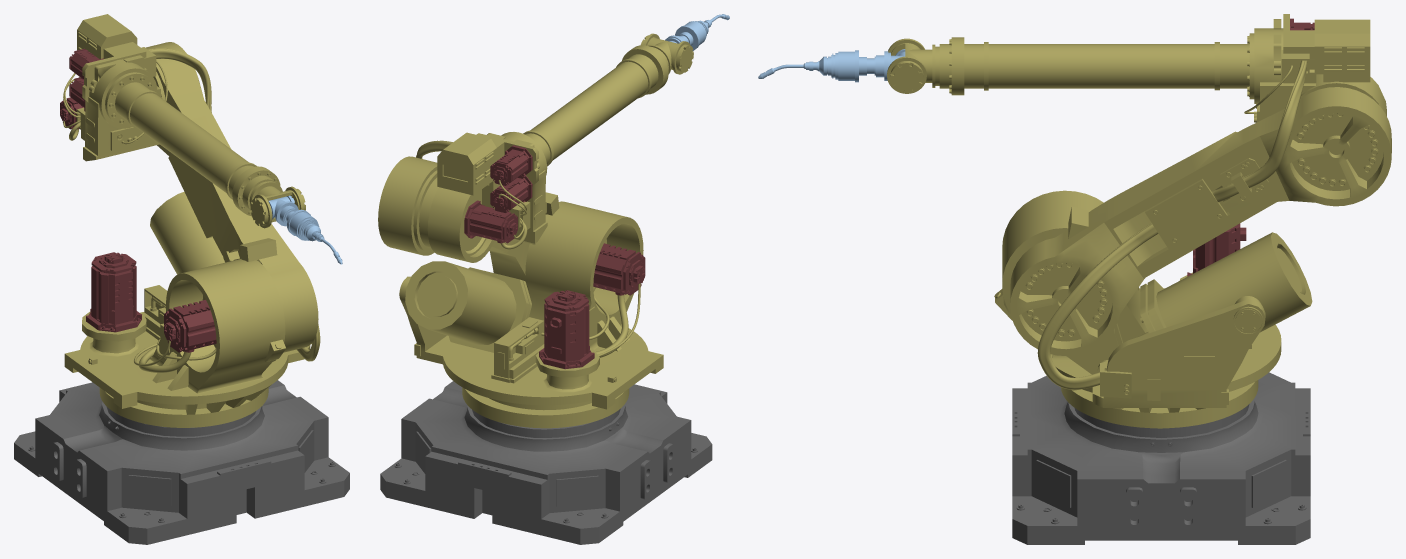
The model's file is armLOW.fbx.
3 renders of one model, left to right at view 1: azimuth 30°, elevation 25°; view 2: azimuth 150°, elevation 25°; view 3: azimuth 270°, elevation 25°, orthographic. The views are drawn at different scales.
Visible parts, largest first — view 1: foundation_low, Base_low, arm2_low, arm_low, engine2_low, BigCyl_low, engine_low, electricbox_low, Tool_low, BigWire_low, prop_low, decal3_low (+3 smaller); view 2: foundation_low, Base_low, arm2_low, BigCyl_low, arm_low, engine2_low, electricbox_low, prop_low, engine_low, engine5_low, decal3_low, engine3_low (+3 smaller); view 3: foundation_low, arm_low, arm2_low, Base_low, BigCyl_low, BigWire_low, decal4_low, electricbox_low, Tool_low, engine2_low, screw4_low, decal3_low (+3 smaller).
Part boxes in pixels (x1=…): foundation_low: x1=14, y1=380, x2=349, y2=544; Base_low: x1=64, y1=259, x2=310, y2=427; arm2_low: x1=76, y1=42, x2=305, y2=228; arm_low: x1=146, y1=42, x2=318, y2=352; engine2_low: x1=86, y1=252, x2=141, y2=332; BigCyl_low: x1=150, y1=192, x2=224, y2=274; engine_low: x1=164, y1=299, x2=216, y2=352; electricbox_low: x1=77, y1=14, x2=137, y2=58; Tool_low: x1=275, y1=201, x2=342, y2=264; BigWire_low: x1=148, y1=48, x2=320, y2=361; prop_low: x1=141, y1=285, x2=167, y2=340; decal3_low: x1=88, y1=313, x2=188, y2=390; foundation_low: x1=380, y1=381, x2=712, y2=544; Base_low: x1=400, y1=201, x2=663, y2=428; arm2_low: x1=413, y1=33, x2=693, y2=262; BigCyl_low: x1=405, y1=261, x2=531, y2=352; arm_low: x1=378, y1=156, x2=559, y2=281; engine2_low: x1=539, y1=290, x2=594, y2=369; electricbox_low: x1=437, y1=132, x2=496, y2=195; prop_low: x1=491, y1=317, x2=544, y2=383; engine_low: x1=593, y1=243, x2=645, y2=295; engine5_low: x1=464, y1=200, x2=517, y2=243; decal3_low: x1=414, y1=306, x2=629, y2=382; engine3_low: x1=490, y1=145, x2=532, y2=185; foundation_low: x1=1012, y1=372, x2=1310, y2=544; arm_low: x1=1010, y1=87, x2=1391, y2=374; arm2_low: x1=887, y1=14, x2=1386, y2=122; Base_low: x1=994, y1=190, x2=1281, y2=428; BigCyl_low: x1=1138, y1=232, x2=1312, y2=336; BigWire_low: x1=1037, y1=60, x2=1307, y2=389; decal4_low: x1=1145, y1=158, x2=1268, y2=249; electricbox_low: x1=1314, y1=19, x2=1370, y2=82; Tool_low: x1=758, y1=50, x2=888, y2=82; engine2_low: x1=1187, y1=223, x2=1246, y2=276; screw4_low: x1=1296, y1=113, x2=1378, y2=186; decal3_low: x1=1138, y1=287, x2=1228, y2=404.
Bounding box in the file's own units: 56.21 × 91.68 × 115.
